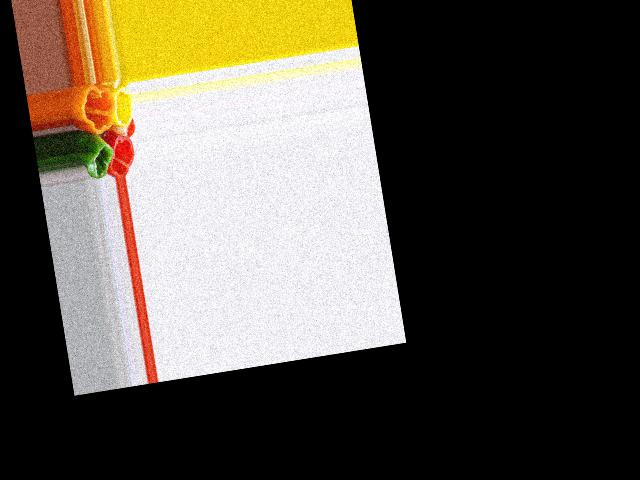bell_pepper: (106, 133, 138, 176)
